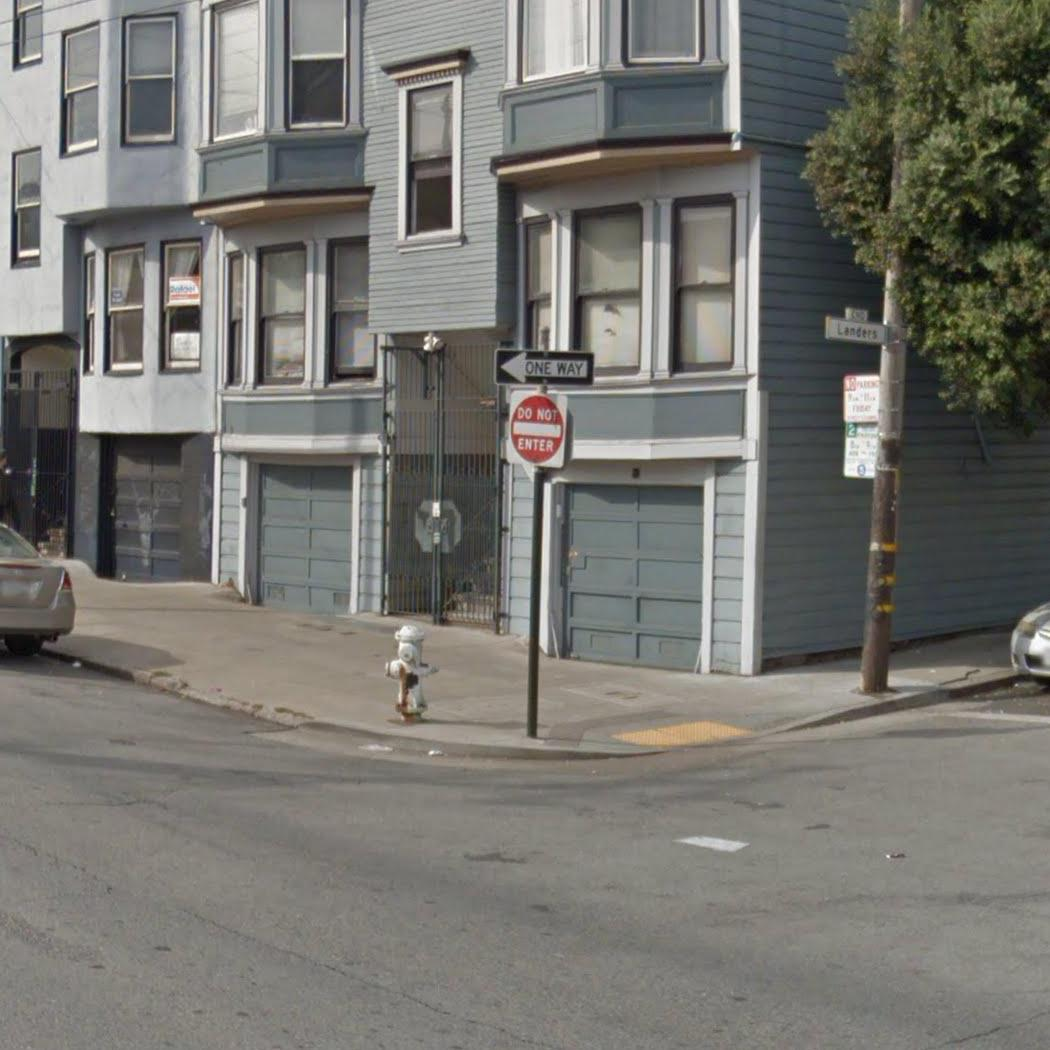2 Hour Parking: (840, 423, 883, 480)
No Parking: (841, 371, 883, 425)
